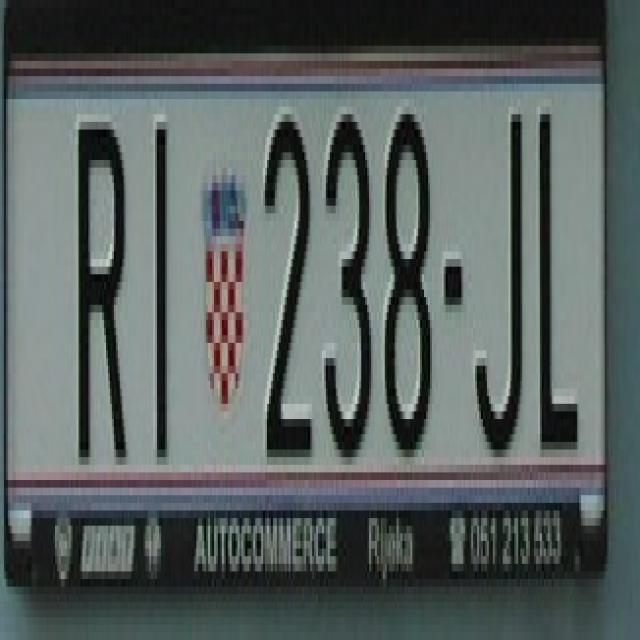2: (259, 99, 316, 457)
3: (320, 114, 371, 464)
8: (379, 100, 430, 450)
L: (532, 91, 583, 442)
